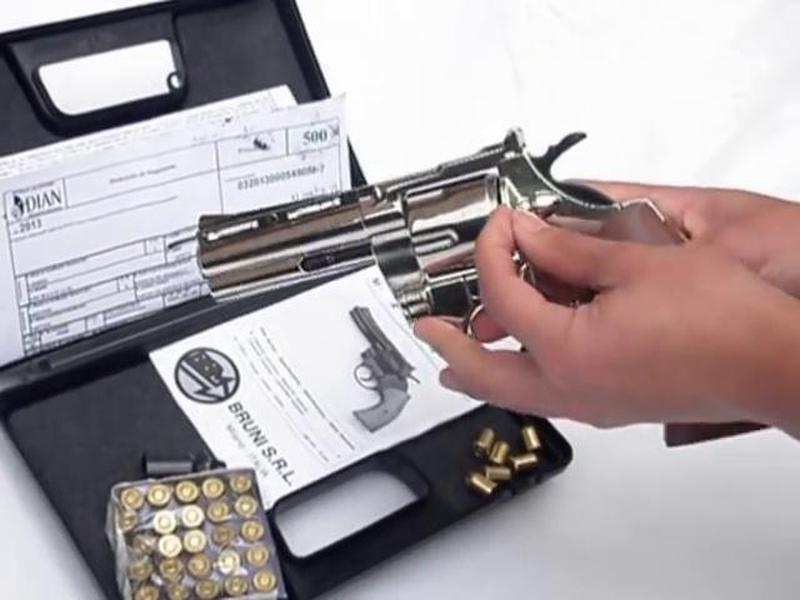Revolver: (144, 134, 778, 400)
